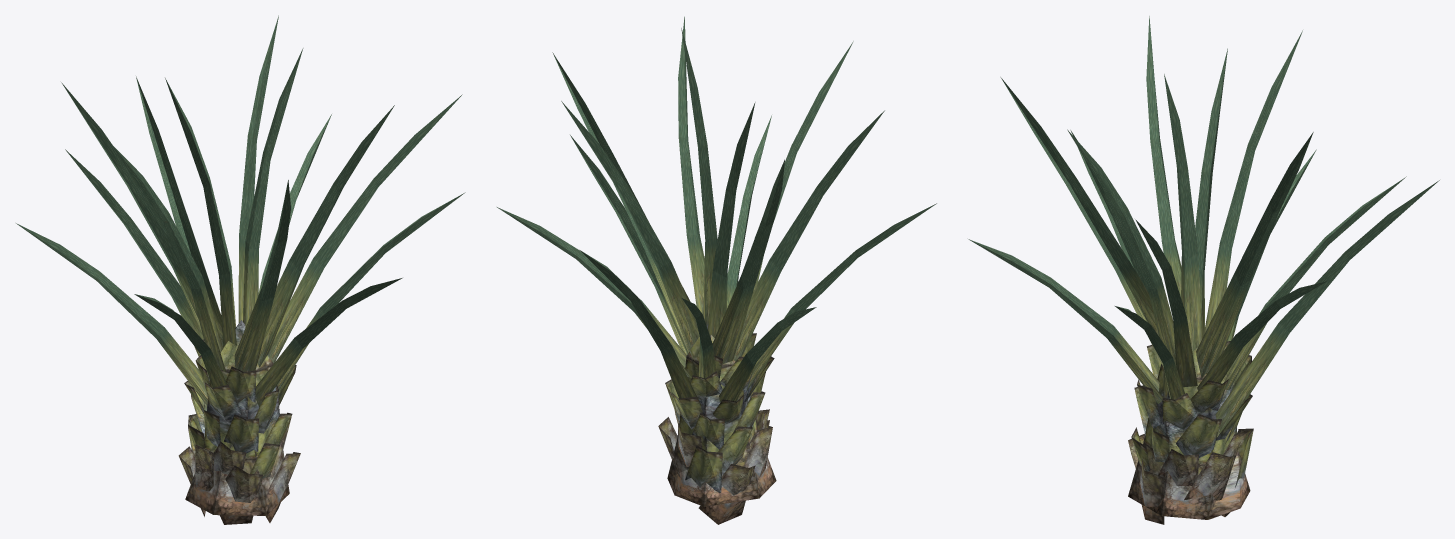
File: C3SNSPIKETREE.obj
3 renders of one model, left to right at view 1: azimuth 30°, elevation 25°; view 2: azimuth 150°, elevation 25°; view 3: azimuth 270°, elevation 25°, orthographic. The views are drawn at different scales.
Visible parts, largest first — view 1: Node 0; view 2: Node 0; view 3: Node 0.
Part boxes in pixels (left/top/right/bottom): Node 0: left=16, top=15, right=465, bottom=524; Node 0: left=497, top=16, right=936, bottom=524; Node 0: left=968, top=16, right=1439, bottom=524.
Bounding box in the file's own units: 9.93 × 12.31 × 11.05.
Materials: 1 (1 with a texture image).
